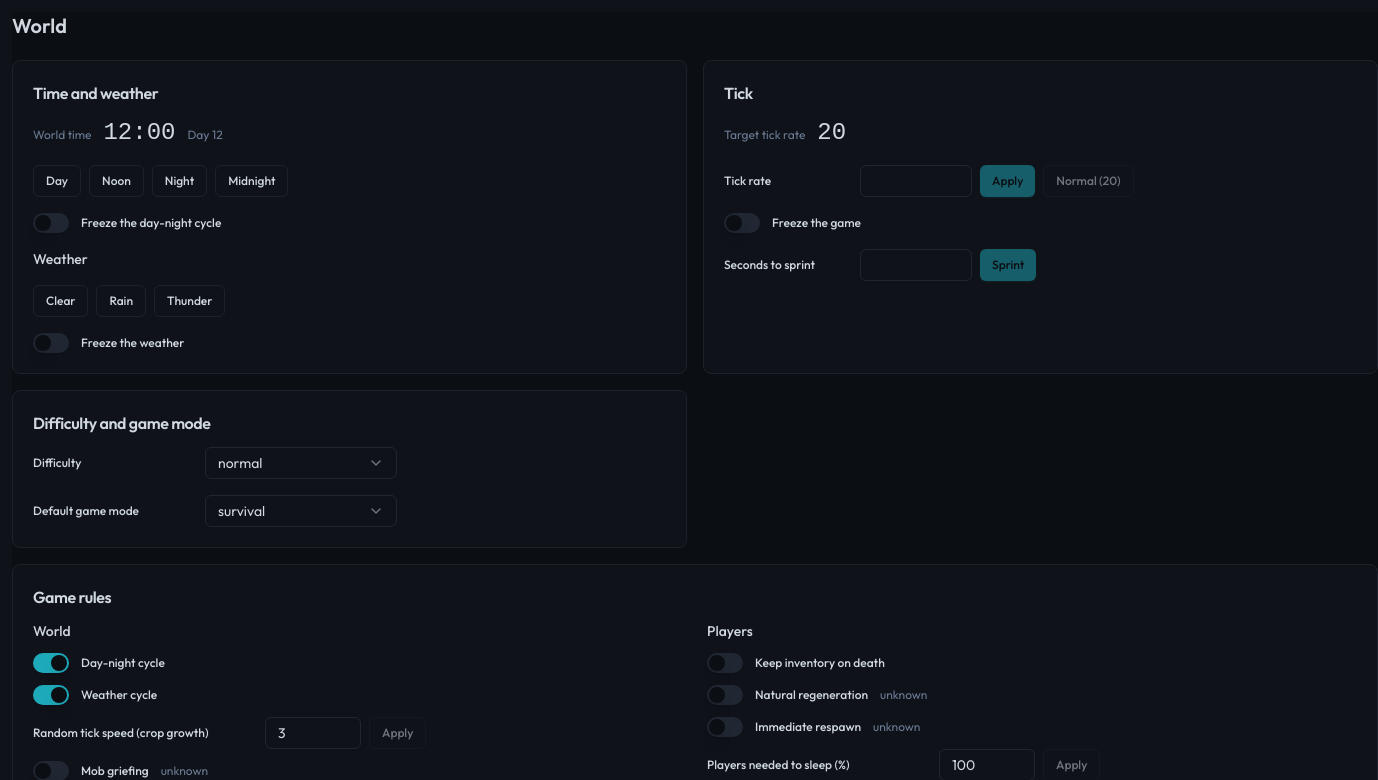
Test: World cards › shows the clock and applies a time preset, replacing the cached state
Expected: the text "12:00" is shown, [103,117,175,149]
Expected: the text "Day 12" is shown, [188,127,223,143]
Click the button "Night" at coordinates (180, 181), box [152,165,207,197]
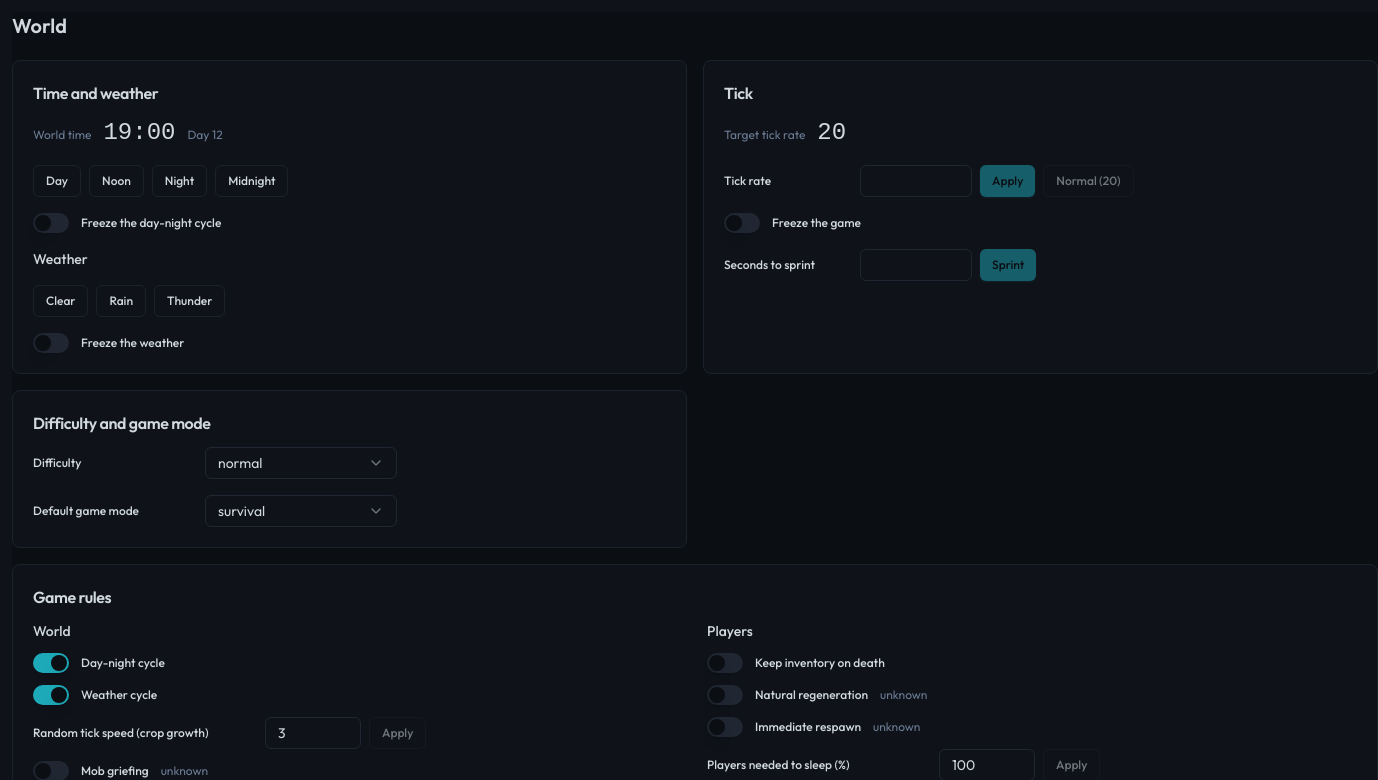
Expected: the text "19:00" is shown, [103,117,175,149]
